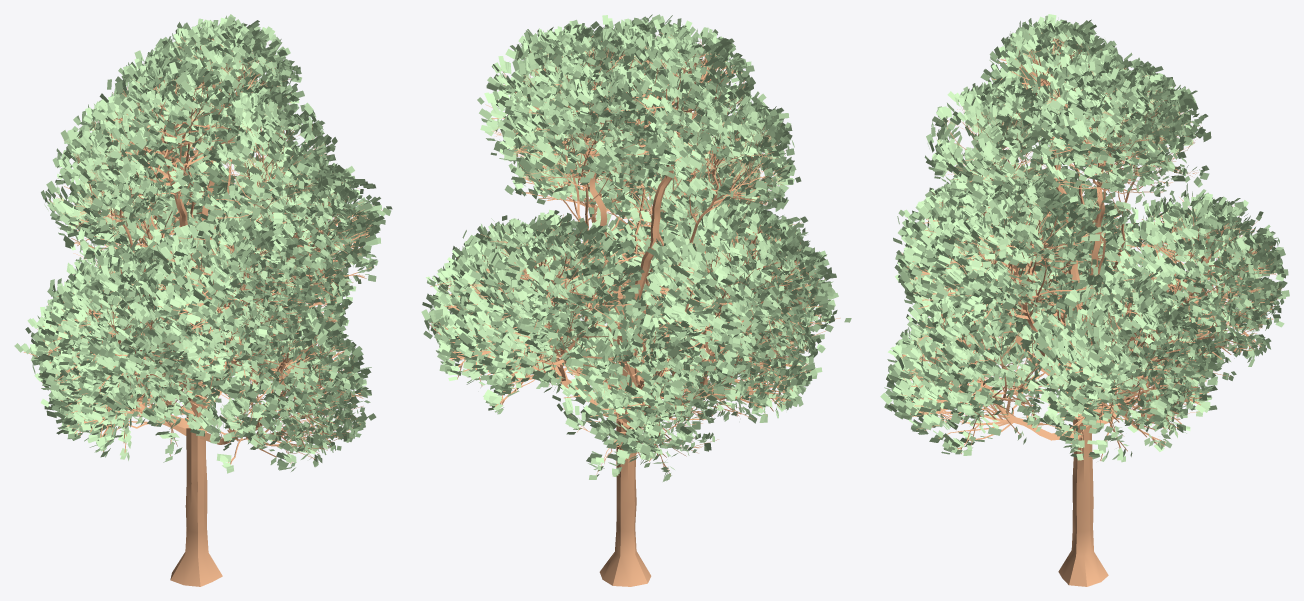
Rendered from stylized-tree.fbx.
3 renders of one model, left to right at view 1: azimuth 30°, elevation 25°; view 2: azimuth 150°, elevation 25°; view 3: azimuth 270°, elevation 25°, orthographic. The views are drawn at different scales.
Visible parts, largest first — view 1: leaf, tree; view 2: leaf, tree; view 3: leaf, tree.
Part boxes in pixels (x1,y1,x2,y2): leaf: (14, 14, 392, 473); tree: (23, 35, 382, 586); leaf: (421, 14, 851, 481); tree: (429, 32, 840, 586); leaf: (880, 14, 1289, 462); tree: (891, 32, 1281, 586).
Bounding box in the file's own units: 36.78 × 56.4 × 38.9.
